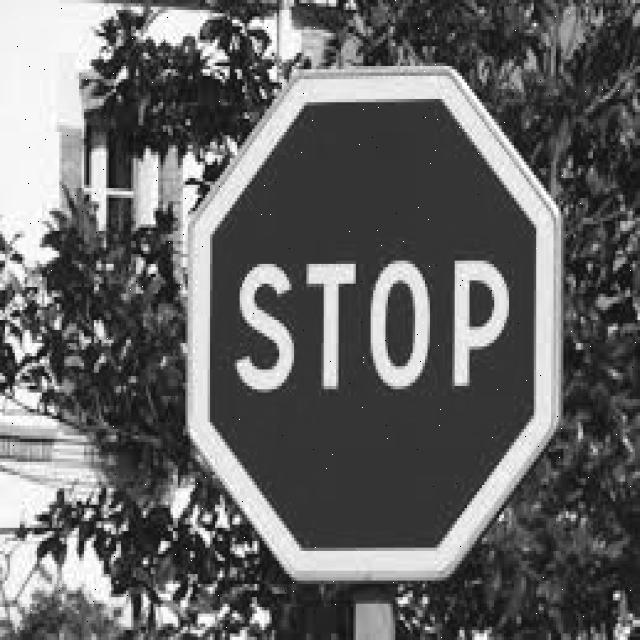stop sign: (184, 70, 565, 576)
